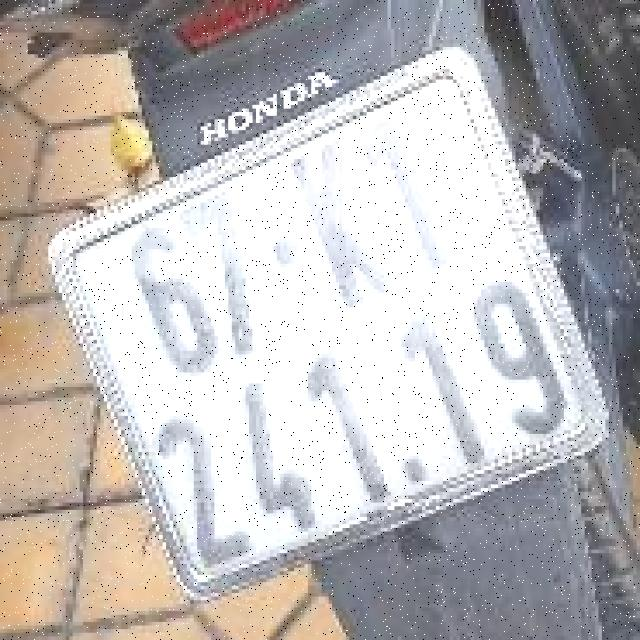1: (345, 98, 471, 289), (287, 333, 412, 519), (383, 295, 504, 477)
2: (146, 398, 262, 579)
4: (225, 367, 331, 553)
6: (109, 213, 229, 389)
7: (172, 175, 286, 371)
9: (457, 266, 585, 450)
K: (274, 125, 405, 322)
